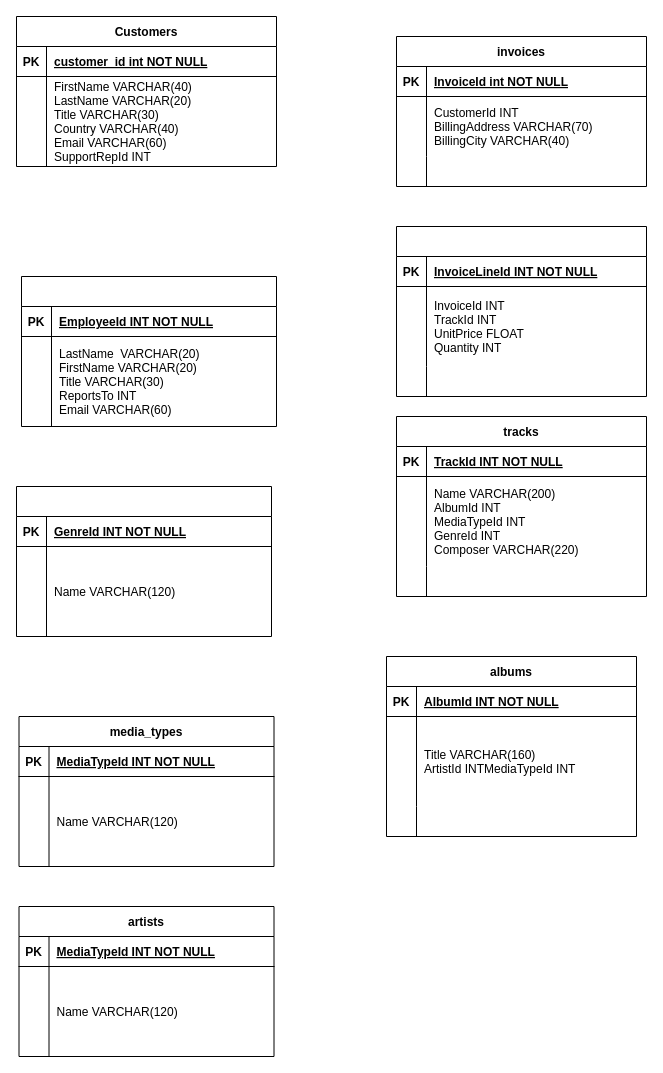
Some shapes in this 663 by 1073 pixel diagram are drawn without their labels. The box of each missing label's shape, as (x1, y1, x2, y2) in pixels:
employees: (20, 276, 276, 426)
genres: (16, 486, 272, 636)
invoice_items: (396, 226, 646, 396)
